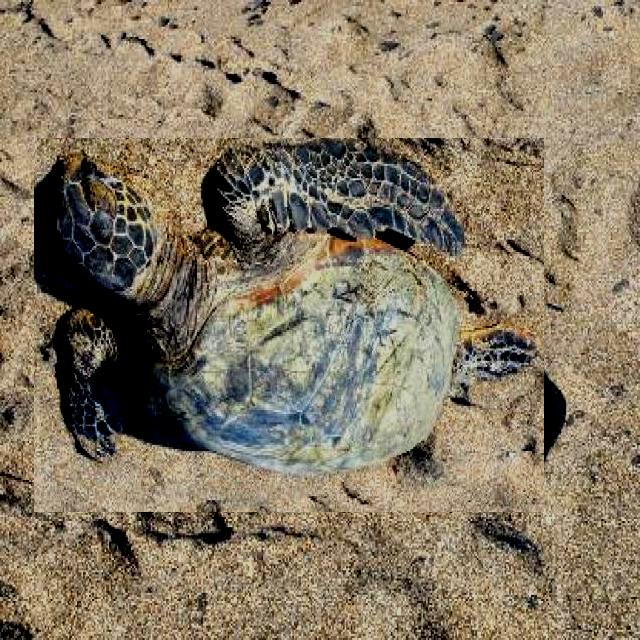Sea turtle: (34, 138, 544, 512)
